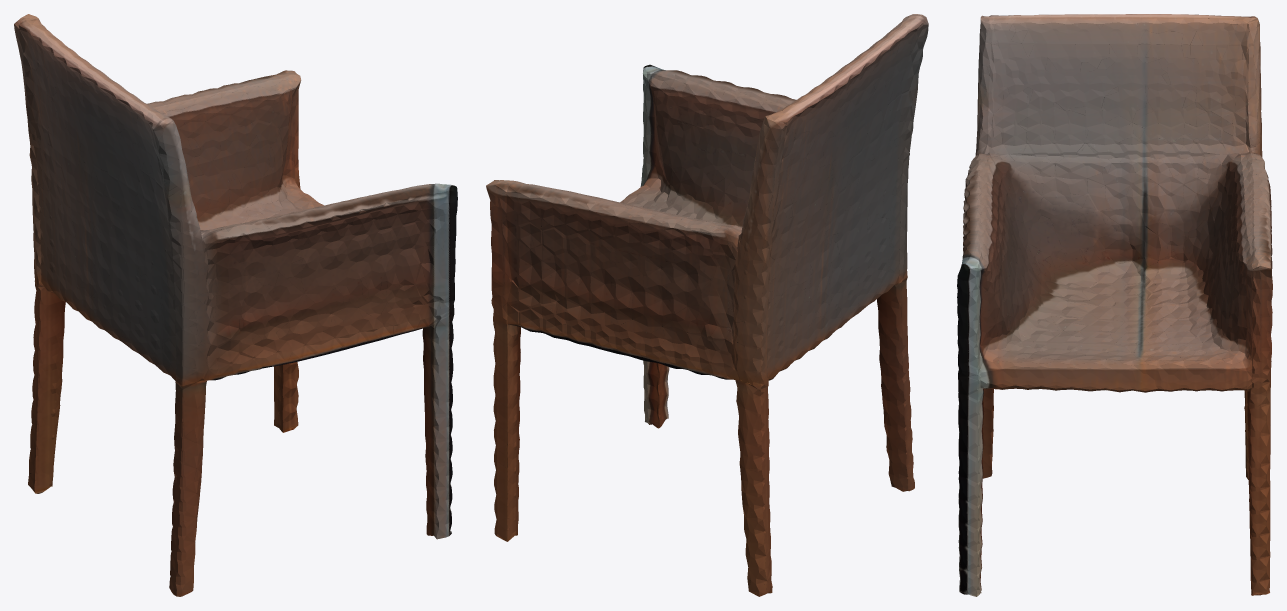
File: elem_94_115_131_213_2_6.obj
The picture shows the model from 3 angles, left to right: view 1: azimuth 30°, elevation 25°; view 2: azimuth 150°, elevation 25°; view 3: azimuth 270°, elevation 25°; orthographic projection. The views are drawn at different scales.
Bounding box in the file's own units: 0.4518 × 0.7002 × 0.4403.
1 material, 1 textured.
